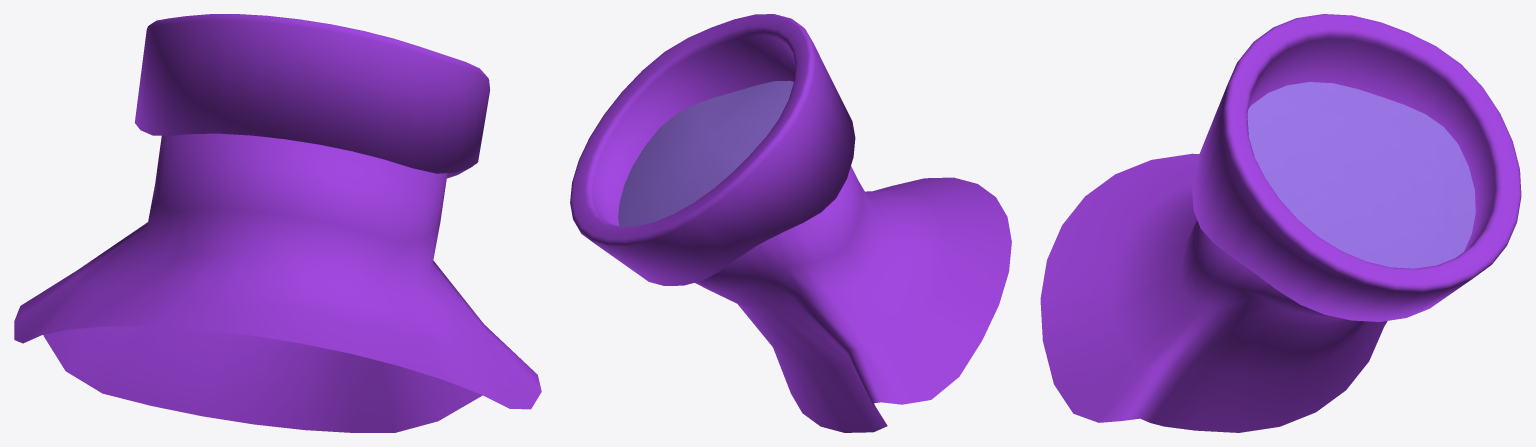
Rendered from Prout_relief.fbx.
The picture shows the model from 3 angles, left to right: view 1: azimuth 30°, elevation 25°; view 2: azimuth 150°, elevation 25°; view 3: azimuth 270°, elevation 25°; orthographic projection. The views are drawn at different scales.
Parts seen in each view (by area): view 1: Sphere.640; view 2: Sphere.640; view 3: Sphere.640.
Part boxes in pixels (x1,y1,x2,y2): Sphere.640: (14, 14, 541, 432); Sphere.640: (570, 14, 1011, 432); Sphere.640: (1040, 14, 1521, 432).
Bounding box in the file's own units: 25.85 × 23.46 × 25.82.
